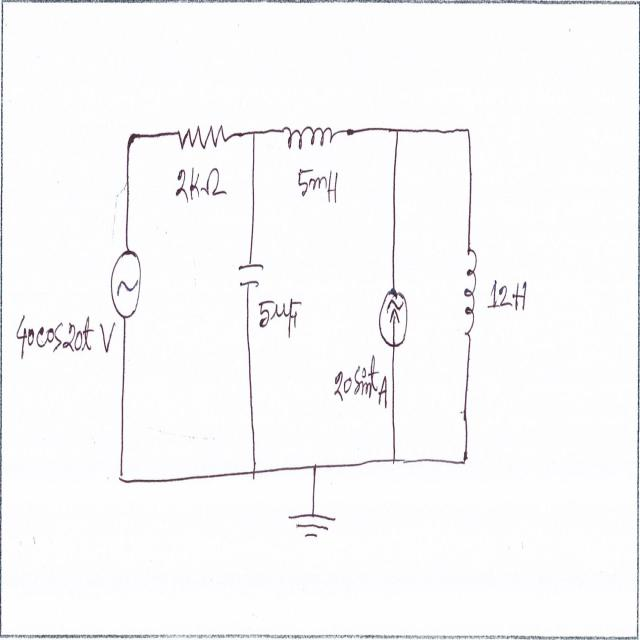ac_current: (110, 248, 144, 322)
capacitor: (236, 254, 262, 294)
current_source: (380, 286, 414, 350)
ground: (286, 506, 338, 543)
inductor: (463, 243, 485, 344), (279, 116, 334, 156)
resistor: (176, 116, 227, 158)
